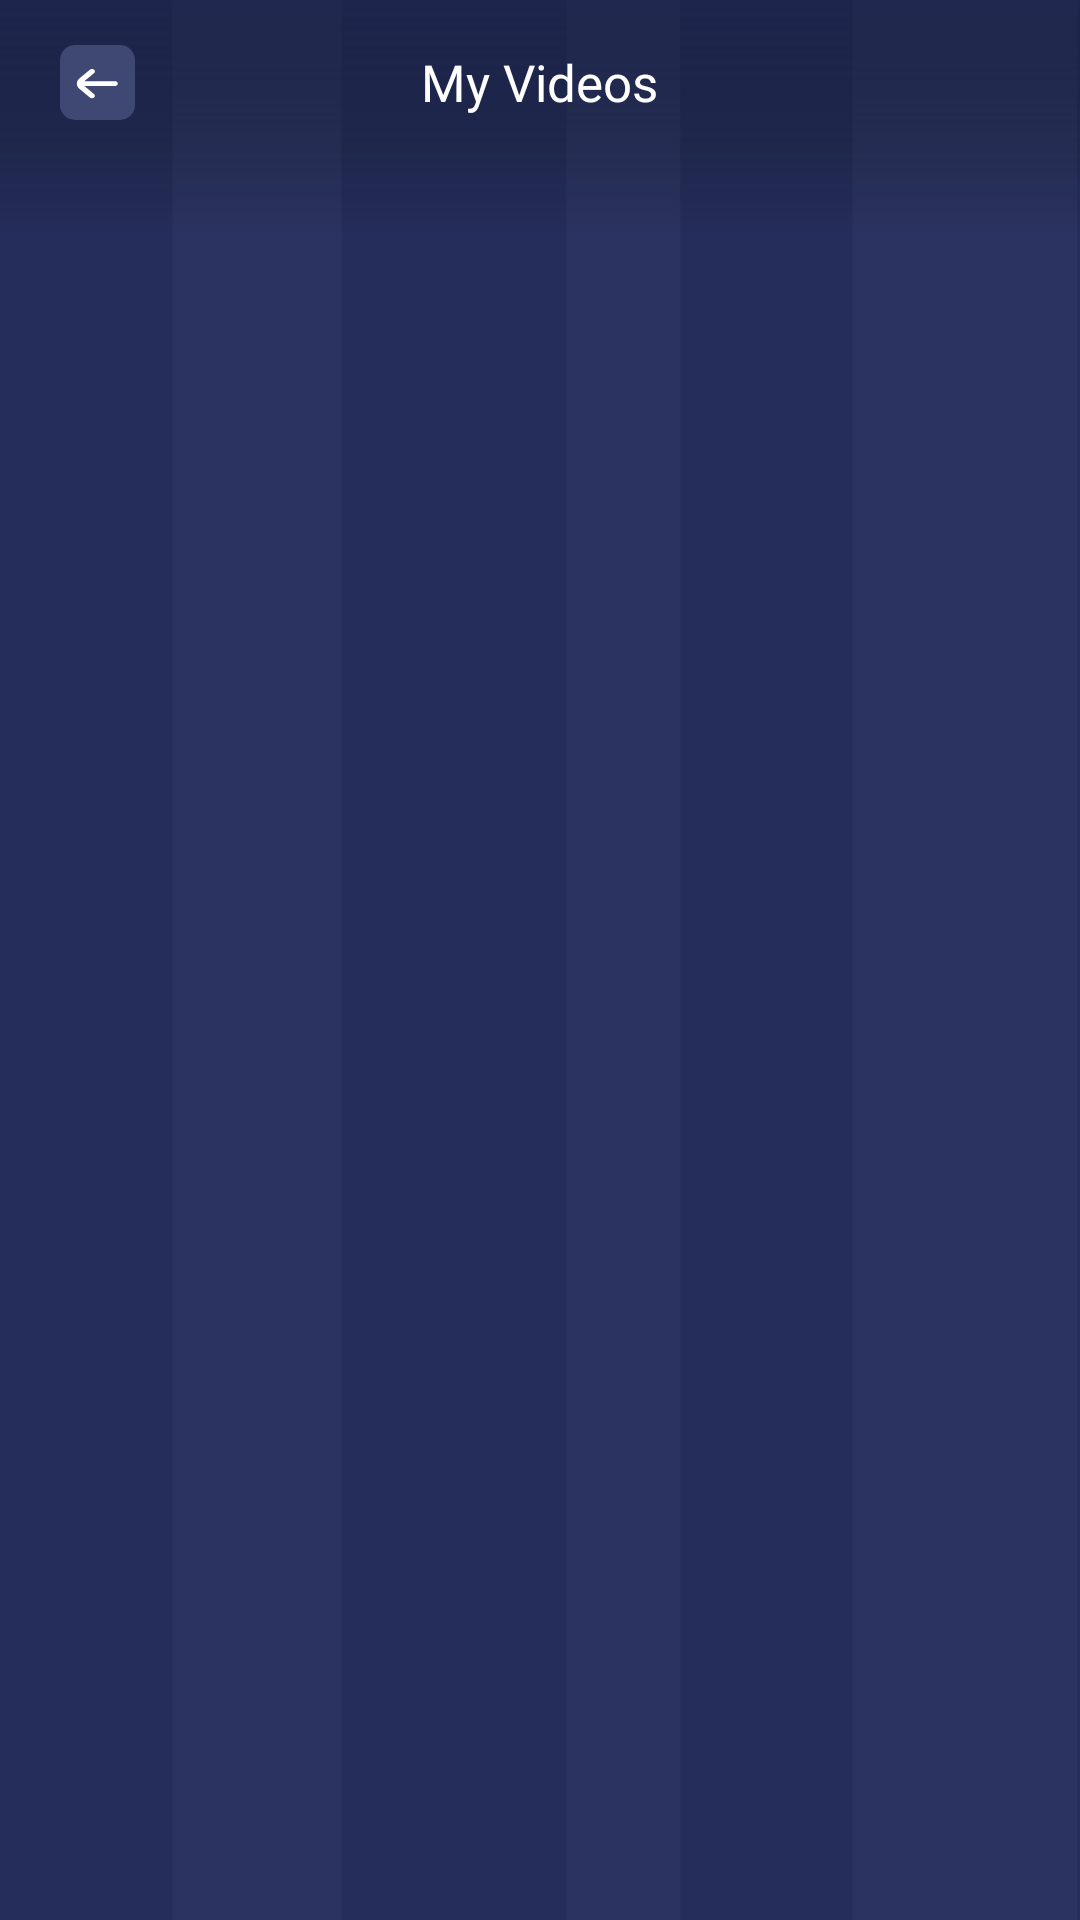

Point at icon controls on the screen. Image size 1080 × 1920, points as point (x, y).
back arrow: point (97, 82)
